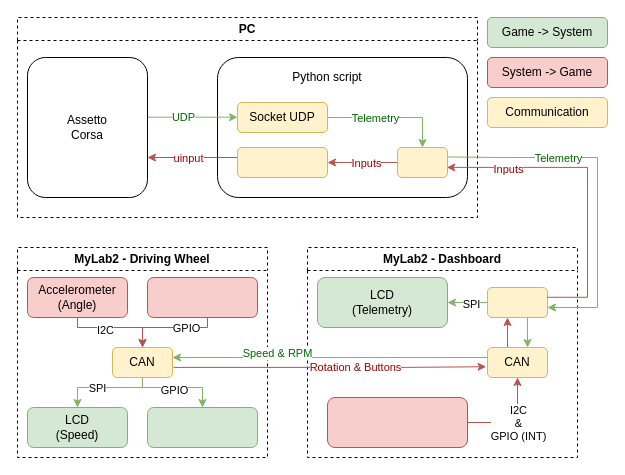
Some shapes in this 625 by 475 pixel diagram are drawn without their labels. Each missing label, with the centre of its shape:
"Buttons (Throttle & Brake)" goes at point 202,297.
"Gamepad" goes at point 282,162.
"Leds (RPM)" goes at point 202,427.
"Serial" goes at point 422,162.
"Touchscreen (ABS +/- TC +/-)" goes at point 397,422.
"UART" goes at point 517,302.
